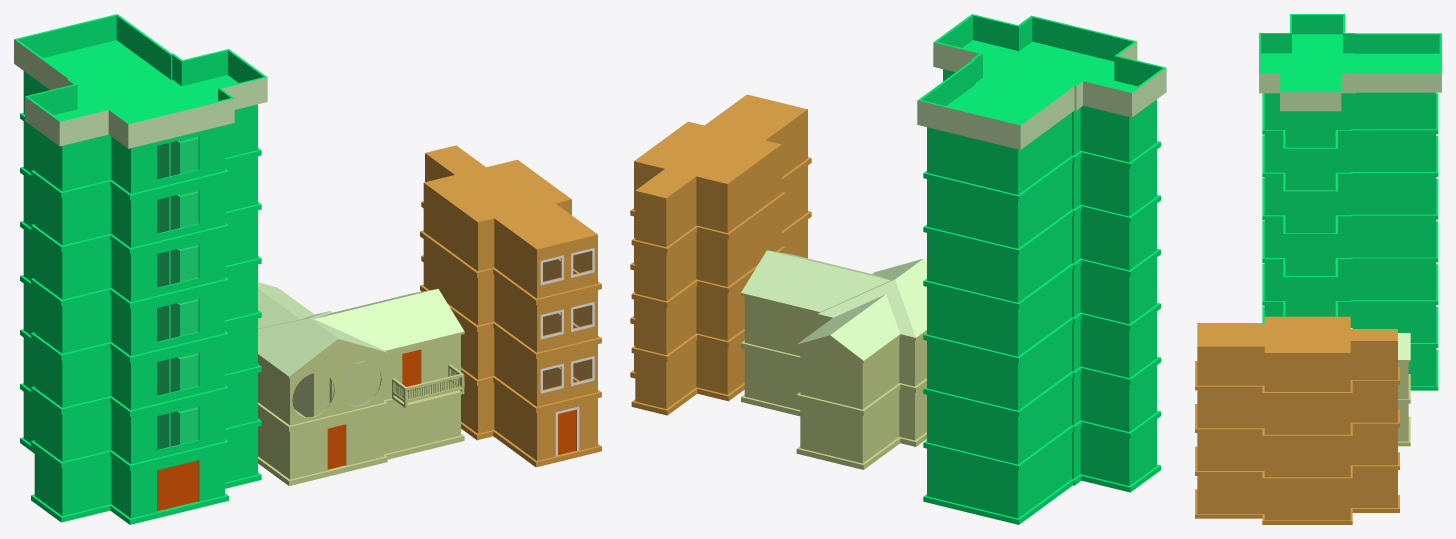
The picture shows the model from 3 angles, left to right: view 1: azimuth 30°, elevation 25°; view 2: azimuth 150°, elevation 25°; view 3: azimuth 270°, elevation 25°; orthographic projection. The views are drawn at different scales.
Visible parts, largest first — view 1: walls.001_10, walls.005_2, walls_5, roof.001_8, roof_13, doors_11, OutWindow.005_1, door_6, The Door.005_3; view 2: walls.001_10, walls.005_2, walls_5, roof.001_8, roof_13; view 3: walls.001_10, walls.005_2, roof_13, walls_5, roof.001_8.
Boxes of the visible parts, <box> form: walls.001_10: <box>14,14,267,524</box>; walls.005_2: <box>420,145,601,467</box>; walls_5: <box>258,331,464,485</box>; roof.001_8: <box>258,282,464,376</box>; roof_13: <box>14,39,267,148</box>; doors_11: <box>157,460,198,511</box>; OutWindow.005_1: <box>540,248,594,393</box>; door_6: <box>327,424,345,469</box>; The Door.005_3: <box>558,409,576,454</box>; walls.001_10: <box>918,14,1166,524</box>; walls.005_2: <box>630,94,811,415</box>; walls_5: <box>741,293,926,469</box>; roof.001_8: <box>741,250,926,360</box>; roof_13: <box>917,42,1166,149</box>; walls.001_10: <box>1259,14,1441,390</box>; walls.005_2: <box>1195,316,1399,524</box>; roof_13: <box>1259,73,1441,111</box>; walls_5: <box>1398,360,1410,446</box>; roof.001_8: <box>1350,328,1410,359</box>.
Bounding box in the file's own units: 21.22 × 16.4 × 11.51.
